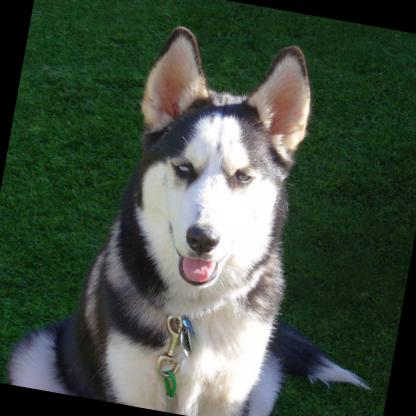Siberian_husky: (4, 4, 416, 416)
